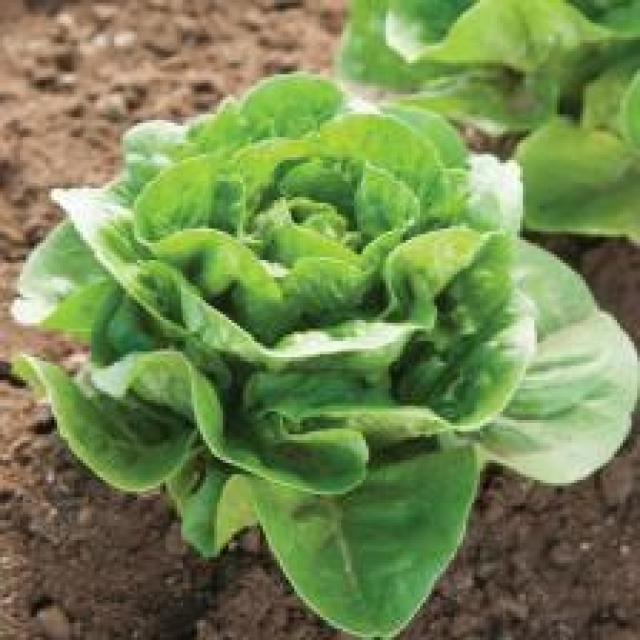Lettuce: (34, 86, 605, 618), (331, 0, 640, 240)
